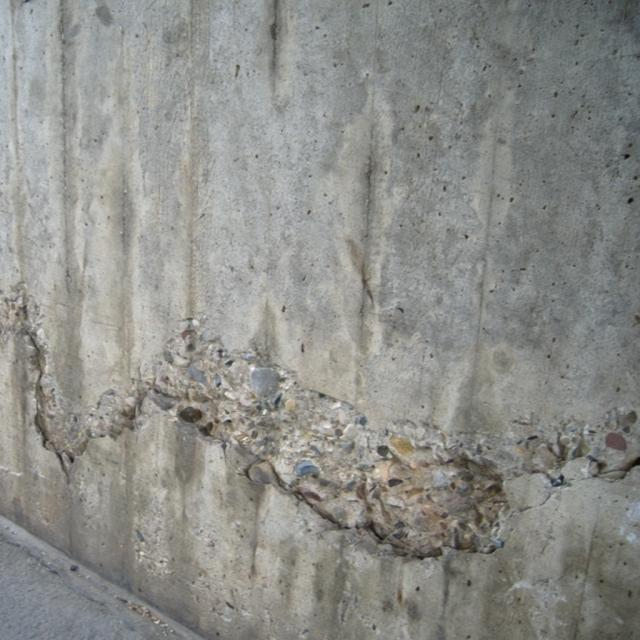D10: (18, 318, 577, 559)
